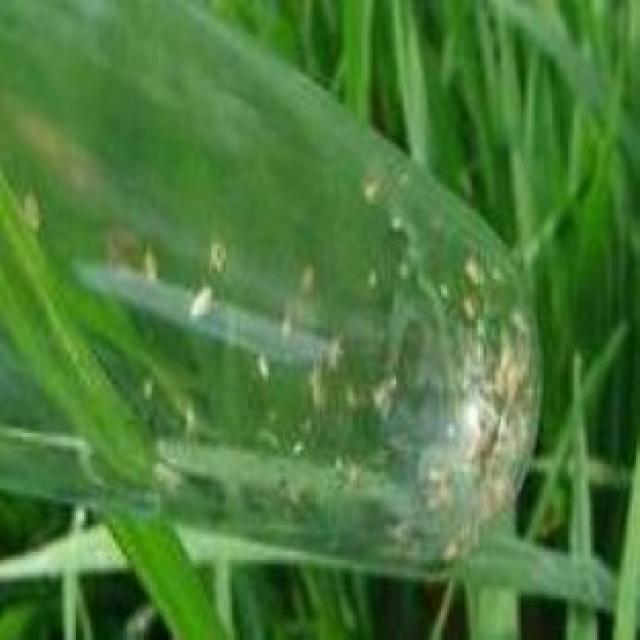brown plant hopper: (23, 193, 39, 232), (189, 287, 209, 318)
